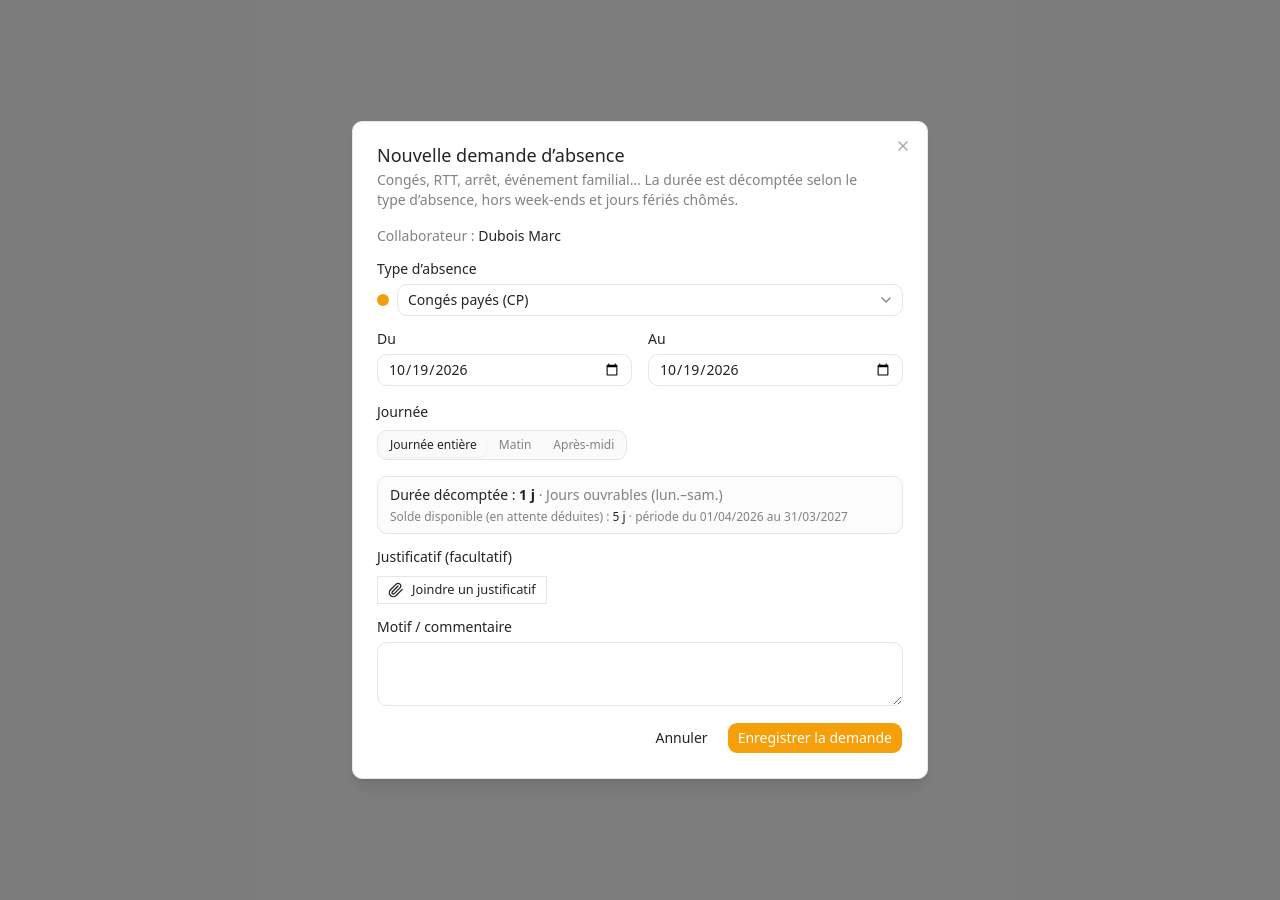
Test: DemandeAbsenceDialog › affiche l’erreur renvoyée par le serveur
Click the button "Enregistrer la demande".
click(815, 738)  # box [727,722,903,754]
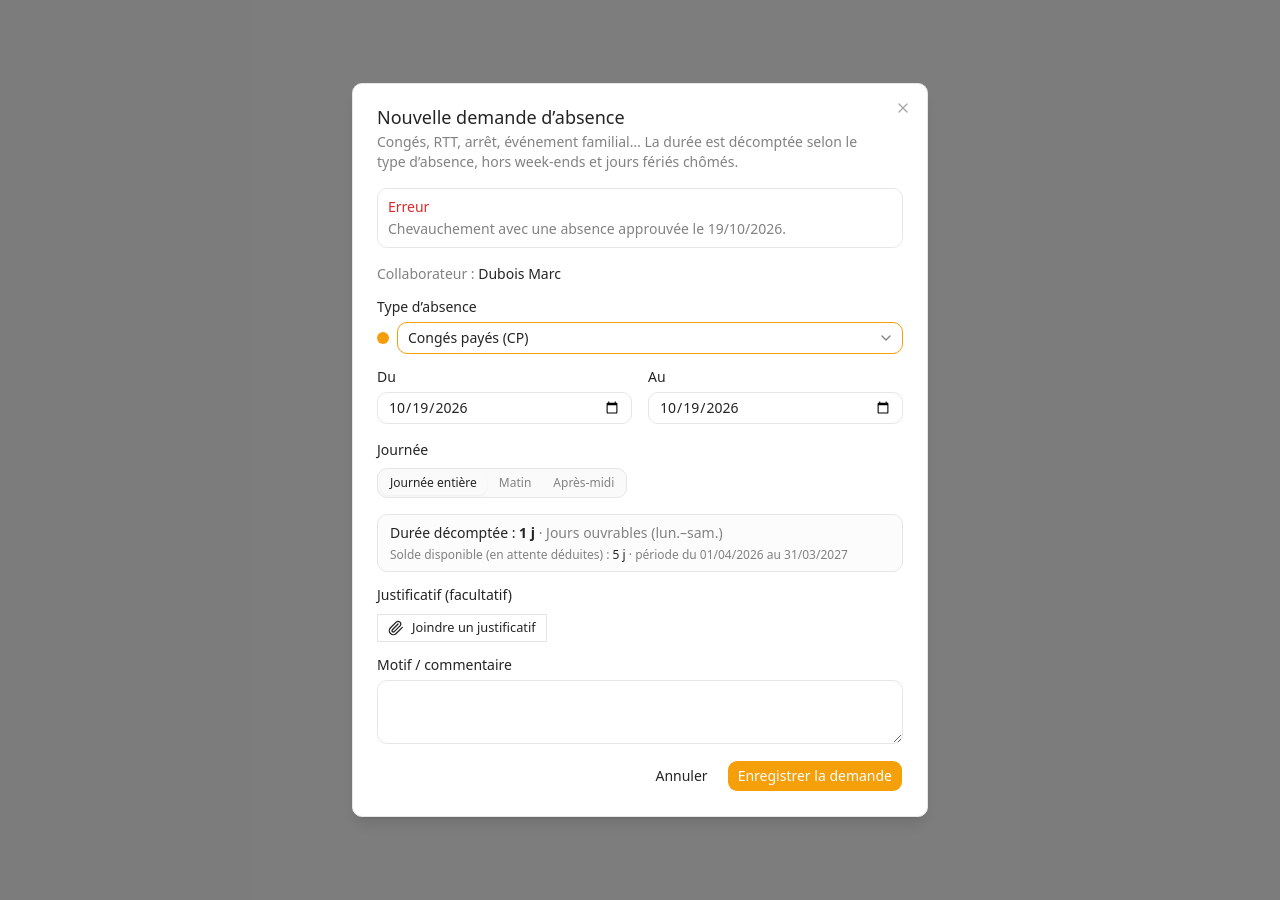
Check: the text "Chevauchement avec une absence approuvée le 19/10/2026." is shown, box [388,219,786,238]
